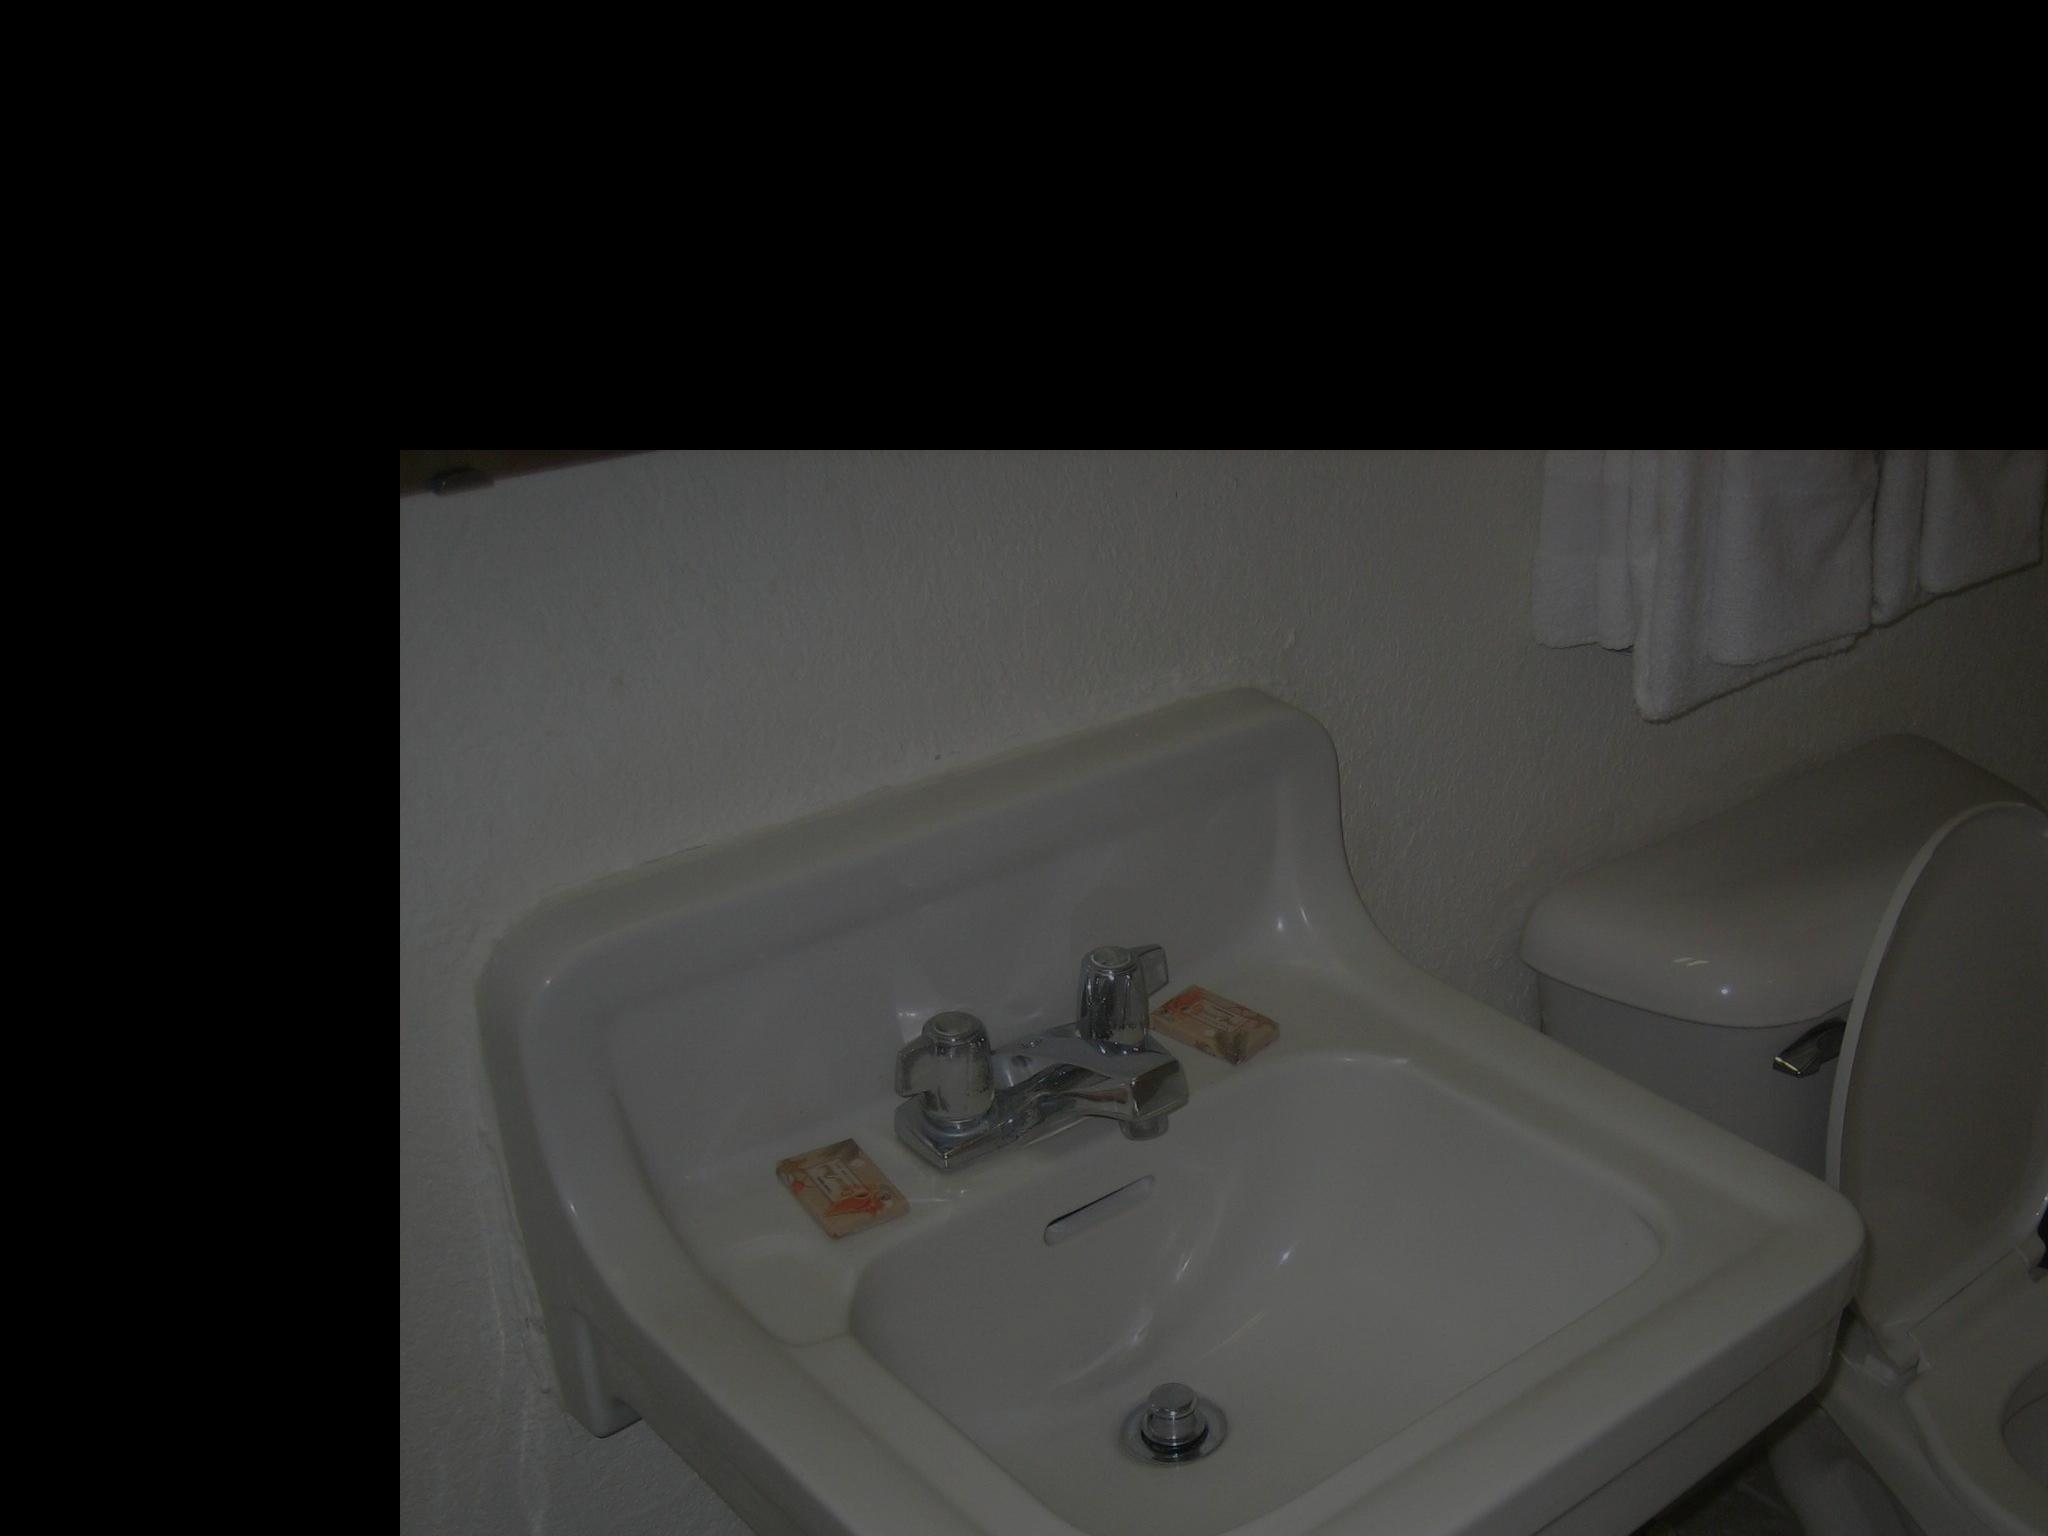Lavamanos: (484, 726, 1917, 1536)
Sanitario: (1634, 771, 2048, 1536)
